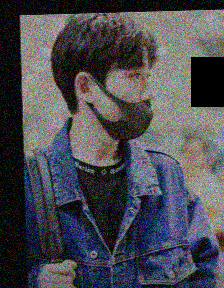mask_weared_incorrect: (96, 61, 156, 140)
